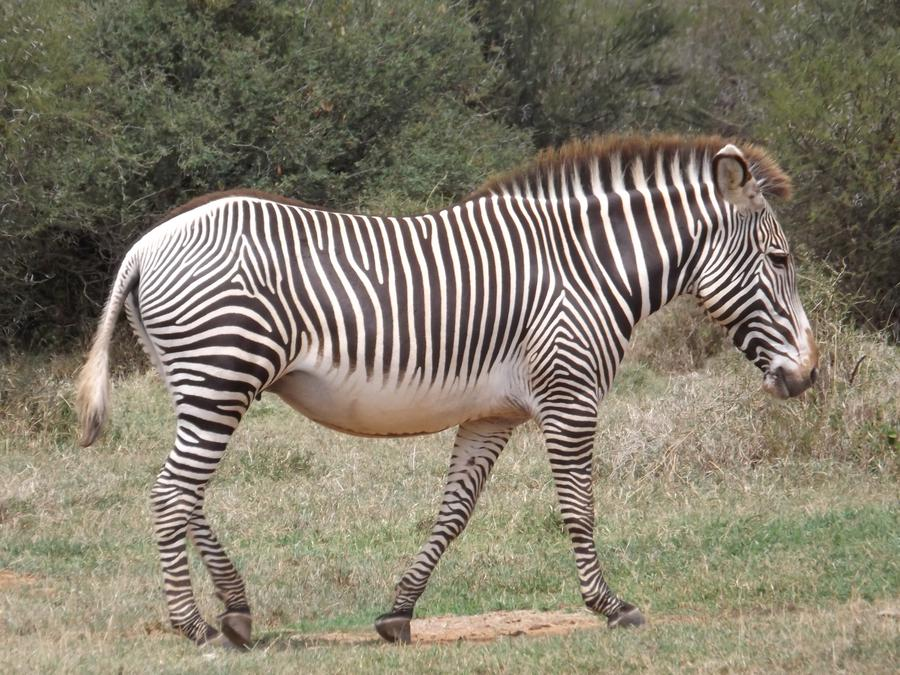zebra_grevys: (113, 182, 597, 408)
